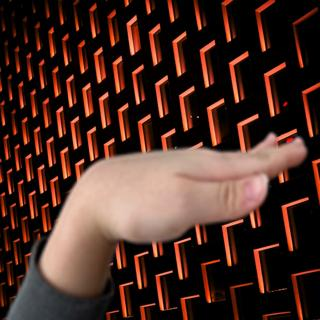Wait: (55, 128, 311, 248)
